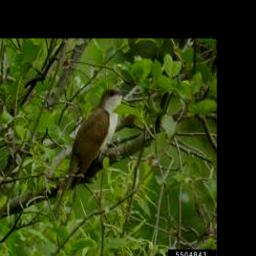Cuckoo: (53, 89, 126, 220)
